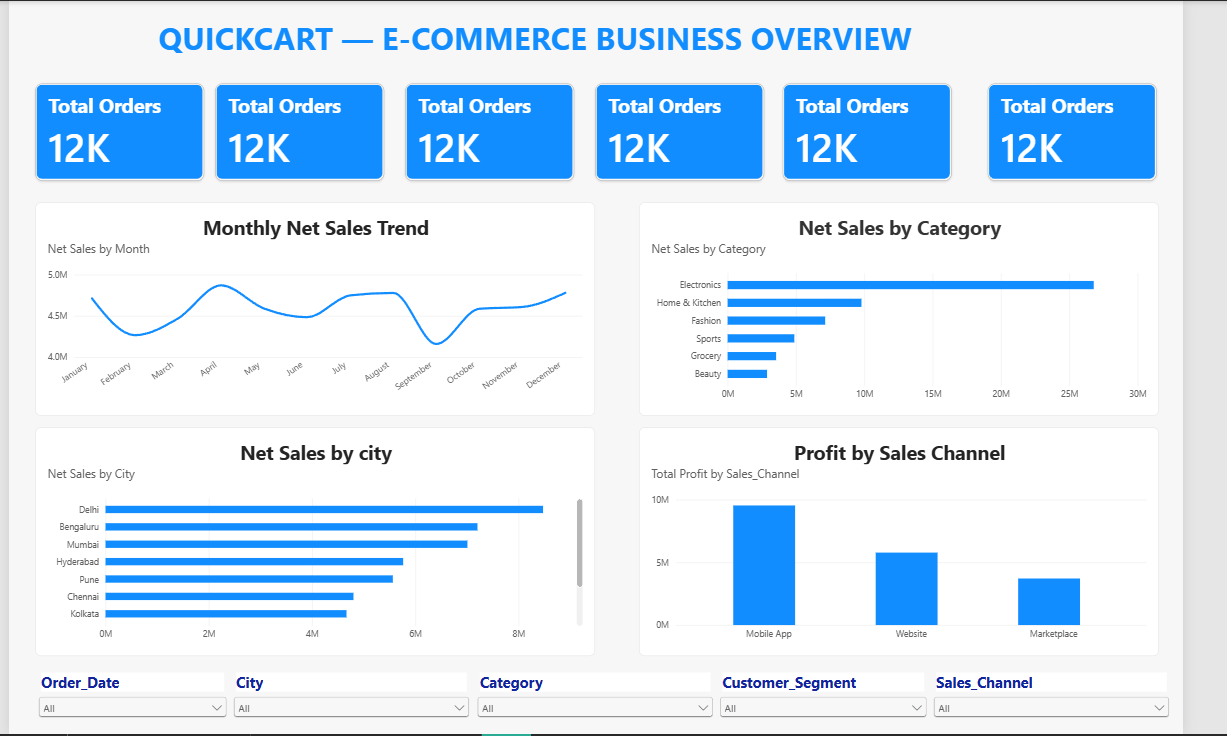

What the dashboard file says about the page in this screenshot:
{"tool":"powerbi","page":{"name":"Executive Overview","canvas":[1600,1000],"ordinal":0},"visuals":[{"type":"cardVisual","fields":{"Data":["Cleaned_Data.Total Orders"]},"box":[35.8,112.5,230.1,132.9],"z":0},{"type":"lineChart","title":"Monthly Net Sales Trend","fields":{"Category":["Cleaned_Data.Order_Date.Variation.Date Hierarchy.Month"],"Y":["Cleaned_Data.Net Sales"]},"box":[35.8,274.4,763.5,291.4],"z":1000},{"type":"clusteredBarChart","title":"Net Sales by Category","fields":{"Category":["Cleaned_Data.Category"],"Y":["Cleaned_Data.Net Sales"]},"box":[858.9,274.4,708.9,291.4],"z":2000},{"type":"clusteredBarChart","title":"Net Sales by city","fields":{"Category":["Cleaned_Data.City"],"Y":["Cleaned_Data.Net Sales"]},"box":[35.8,581.1,763.5,311.9],"z":3000},{"type":"columnChart","title":"Profit by Sales Channel","fields":{"Category":["Cleaned_Data.Sales_Channel"],"Y":["Cleaned_Data.Total Profit"]},"box":[858.9,581.1,708.9,311.9],"z":4000},{"type":"slicer","fields":{"Values":["Cleaned_Data.Order_Date"]},"box":[35.8,915.1,265.9,75],"z":5000},{"type":"slicer","fields":{"Values":["Cleaned_Data.City"]},"box":[301.6,915.1,330.6,75],"z":6000},{"type":"slicer","fields":{"Values":["Cleaned_Data.Customer_Segment"]},"box":[964.6,915.1,291.4,80.1],"z":7000},{"type":"slicer","fields":{"Values":["Cleaned_Data.Sales_Channel"]},"box":[1256,915.1,330.6,75],"z":8000},{"type":"slicer","fields":{"Values":["Cleaned_Data.Category"]},"box":[634,915.1,330.6,76.7],"z":9000},{"type":"textbox","box":[1334,753,150,325],"z":10000},{"type":"textbox","box":[1390,331,150,352],"z":11000},{"type":"textbox","box":[35.8,20.5,1363.3,92],"z":12000},{"type":"cardVisual","fields":{"Data":["Cleaned_Data.Total Orders"]},"box":[281.2,112.5,230.1,132.9],"z":13000},{"type":"cardVisual","fields":{"Data":["Cleaned_Data.Total Orders"]},"box":[1054.9,112.5,230.1,132.9],"z":14000},{"type":"cardVisual","fields":{"Data":["Cleaned_Data.Total Orders"]},"box":[799.3,112.5,230.1,132.9],"z":15000},{"type":"cardVisual","fields":{"Data":["Cleaned_Data.Total Orders"]},"box":[540.2,112.5,230.1,132.9],"z":16000},{"type":"cardVisual","fields":{"Data":["Cleaned_Data.Total Orders"]},"box":[1334.4,112.5,230.1,132.9],"z":17000}]}

Visuals, with their boxes on the page's 1600x1000 design canvas (x1, y1, x2, y2). These are canvas units, not pixel positions in the 1227x736 screenshot, which may show the page scaled, cropped or inside an application window:
cardVisual - Cleaned_Data.Total Orders: {"left": 36, "top": 112, "right": 266, "bottom": 245}
"Monthly Net Sales Trend" lineChart: {"left": 36, "top": 274, "right": 799, "bottom": 566}
"Net Sales by Category" clusteredBarChart: {"left": 859, "top": 274, "right": 1568, "bottom": 566}
"Net Sales by city" clusteredBarChart: {"left": 36, "top": 581, "right": 799, "bottom": 893}
"Profit by Sales Channel" columnChart: {"left": 859, "top": 581, "right": 1568, "bottom": 893}
slicer - Cleaned_Data.Order_Date: {"left": 36, "top": 915, "right": 302, "bottom": 990}
slicer - Cleaned_Data.City: {"left": 302, "top": 915, "right": 632, "bottom": 990}
slicer - Cleaned_Data.Customer_Segment: {"left": 965, "top": 915, "right": 1256, "bottom": 995}
slicer - Cleaned_Data.Sales_Channel: {"left": 1256, "top": 915, "right": 1587, "bottom": 990}
slicer - Cleaned_Data.Category: {"left": 634, "top": 915, "right": 965, "bottom": 992}
textbox: {"left": 1334, "top": 753, "right": 1484, "bottom": 1078}
textbox: {"left": 1390, "top": 331, "right": 1540, "bottom": 683}
textbox: {"left": 36, "top": 20, "right": 1399, "bottom": 112}
cardVisual - Cleaned_Data.Total Orders: {"left": 281, "top": 112, "right": 511, "bottom": 245}
cardVisual - Cleaned_Data.Total Orders: {"left": 1055, "top": 112, "right": 1285, "bottom": 245}
cardVisual - Cleaned_Data.Total Orders: {"left": 799, "top": 112, "right": 1029, "bottom": 245}
cardVisual - Cleaned_Data.Total Orders: {"left": 540, "top": 112, "right": 770, "bottom": 245}
cardVisual - Cleaned_Data.Total Orders: {"left": 1334, "top": 112, "right": 1564, "bottom": 245}
